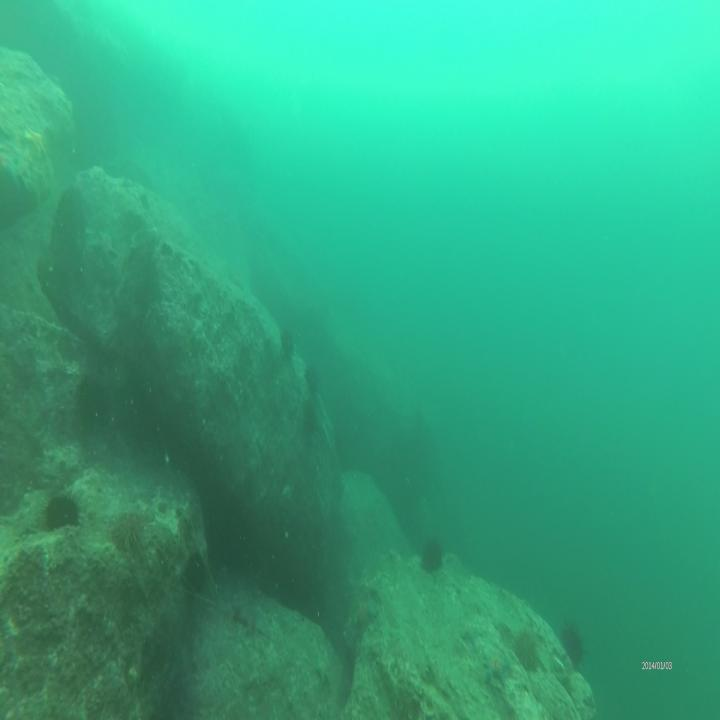echinus: (46, 490, 82, 532), (512, 627, 542, 677), (561, 620, 585, 669), (424, 536, 444, 574), (279, 329, 296, 361), (304, 368, 321, 400)
starfish: (22, 124, 49, 164)
